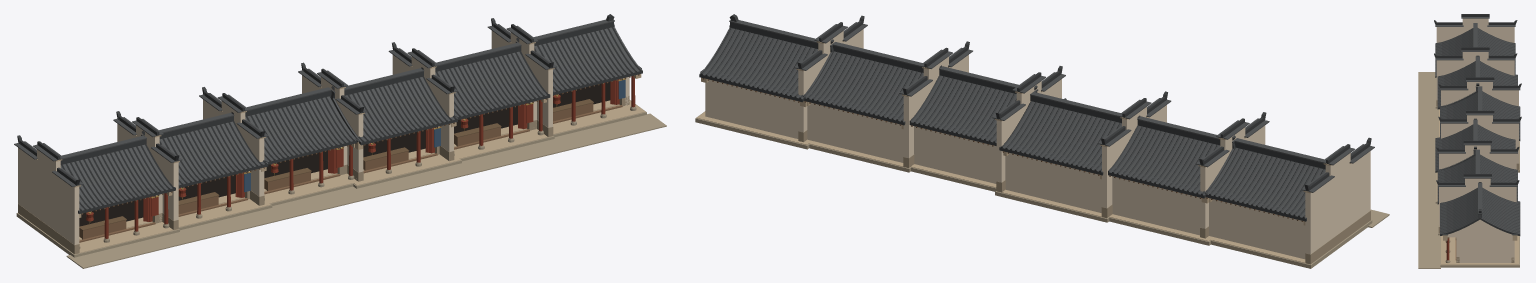
3 views of the same model, side by side, from view 1: azimuth 30°, elevation 25°; view 2: azimuth 150°, elevation 25°; view 3: azimuth 270°, elevation 25° (orthographic). The views are drawn at different scales.
Parts seen in each view (by area): view 1: K14; view 2: K14; view 3: K14.
Part boxes in pixels (box(x1,y1,x2,y2)): K14: box(14, 14, 666, 268); K14: box(695, 14, 1389, 268); K14: box(1418, 14, 1521, 268).
Bounding box in the file's own units: 60.8 × 8.76 × 13.55.
